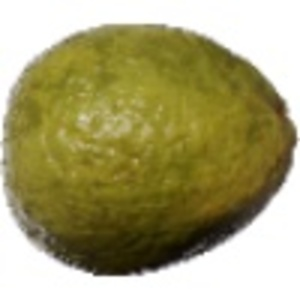goiaba: (2, 9, 295, 277)
